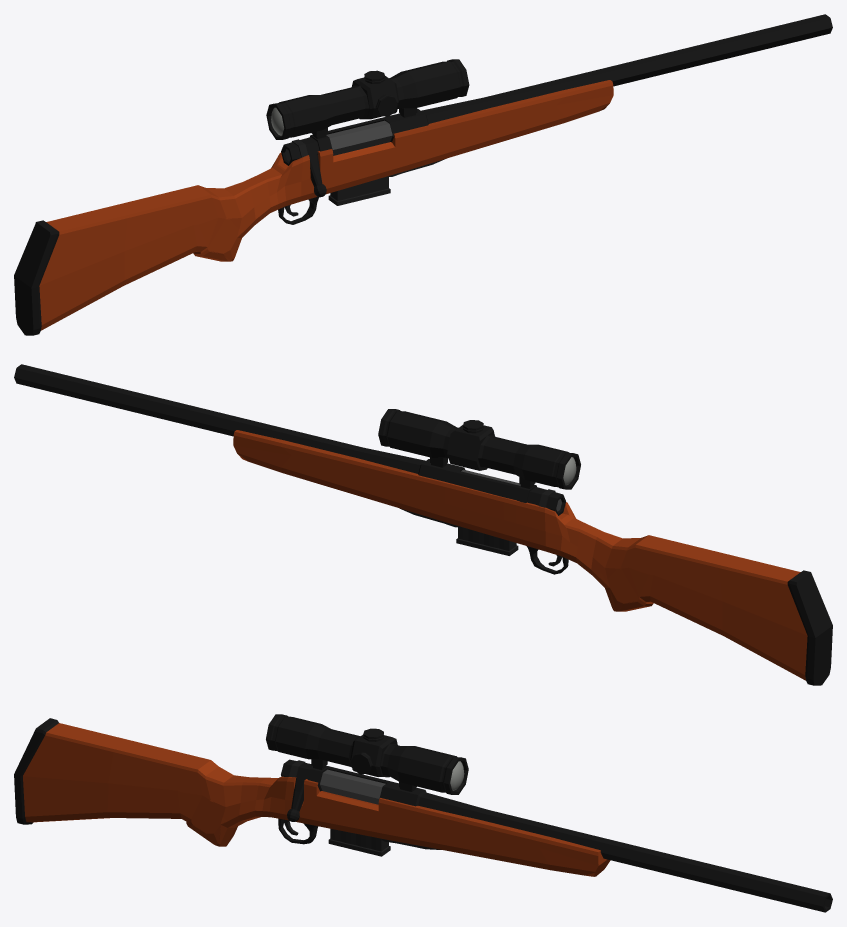
The model's file is Rifle.obj.
3 views of the same model, one above another, from view 1: azimuth 30°, elevation 25°; view 2: azimuth 150°, elevation 25°; view 3: azimuth 330°, elevation 25° (orthographic).
Parts seen in each view (by area): view 1: Body_Cube, Barrel_Cube.004, Scope_Cube.005, PullBack_Cylinder.003, Mag_Cube.007; view 2: Body_Cube, Barrel_Cube.004, Scope_Cube.005, Mag_Cube.007, PullBack_Cylinder.003; view 3: Body_Cube, Barrel_Cube.004, Scope_Cube.005, PullBack_Cylinder.003, Mag_Cube.007.
Part boxes in pixels (bbox=[...]): Body_Cube: bbox=[14, 80, 613, 335]; Barrel_Cube.004: bbox=[310, 14, 832, 151]; Scope_Cube.005: bbox=[266, 59, 469, 139]; PullBack_Cylinder.003: bbox=[281, 120, 392, 197]; Mag_Cube.007: bbox=[328, 176, 390, 205]; Body_Cube: bbox=[233, 430, 832, 685]; Barrel_Cube.004: bbox=[14, 364, 536, 502]; Scope_Cube.005: bbox=[378, 409, 580, 489]; Mag_Cube.007: bbox=[456, 526, 518, 555]; PullBack_Cylinder.003: bbox=[461, 469, 565, 515]; Body_Cube: bbox=[14, 718, 610, 876]; Barrel_Cube.004: bbox=[307, 765, 832, 912]; Scope_Cube.005: bbox=[266, 714, 468, 794]; PullBack_Cylinder.003: bbox=[281, 759, 385, 821]; Mag_Cube.007: bbox=[328, 828, 390, 856].
Bounding box in the file's own units: 11.96 × 2.49 × 0.7035.
